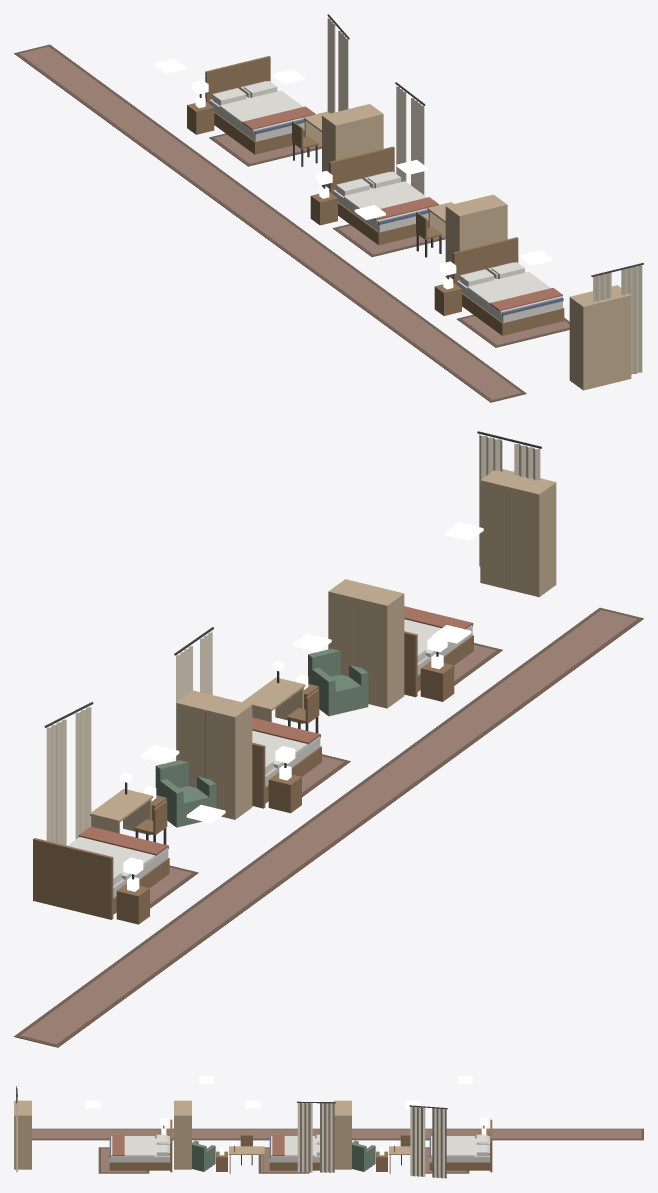
Rendered from fine-s2.glb.
The picture shows the model from 3 angles, top to bottom: view 1: azimuth 30°, elevation 25°; view 2: azimuth 150°, elevation 25°; view 3: azimuth 270°, elevation 25°; orthographic projection. The views are drawn at different scales.
Visible parts, largest first — view 1: soft-s2, dresser.005, bed-frame.005, bed-frame.003, bed-frame.004, dresser.004, dresser.003, nightstand.004, nightstand.003, nightstand.005, cafe-chair.003, cafe-chair.002; view 2: soft-s2, dresser.005, dresser.004, dresser.003, bed-frame.003, lounge-chair.003, lounge-chair.002, writing-desk.002, writing-desk.003, bed-frame.004, bed-frame.005, nightstand.005 (+2 smaller); view 3: soft-s2, dresser.004, dresser.003, dresser.005, bed-frame.005, bed-frame.003, lounge-chair.003, lounge-chair.002, bed-frame.004, writing-desk.003, side-table.002, side-table.003 (+2 smaller).
Boxes of the visible parts, x1,y1,x2,y2 form: soft-s2: (14, 14, 643, 402); dresser.005: (569, 285, 631, 390); bed-frame.005: (453, 237, 564, 335); bed-frame.003: (205, 56, 304, 154); bed-frame.004: (329, 146, 428, 245); dresser.004: (445, 194, 507, 278); dresser.003: (322, 104, 383, 188); nightstand.004: (310, 186, 337, 225); nightstand.003: (187, 96, 214, 134); nightstand.005: (434, 277, 461, 315); cafe-chair.003: (416, 212, 442, 257); cafe-chair.002: (292, 121, 318, 166); soft-s2: (14, 431, 643, 1047); dresser.005: (480, 469, 556, 597); dresser.004: (328, 579, 404, 708); dresser.003: (176, 690, 252, 819); bed-frame.003: (33, 838, 169, 919); lounge-chair.003: (308, 649, 368, 716); lounge-chair.002: (155, 760, 216, 827); writing-desk.002: (90, 772, 153, 835); writing-desk.003: (242, 661, 305, 723); bed-frame.004: (252, 734, 321, 808); bed-frame.005: (404, 623, 473, 697); nightstand.005: (420, 654, 454, 701); soft-s2: (16, 1086, 643, 1178); dresser.004: (174, 1100, 191, 1169); dresser.003: (334, 1100, 351, 1169); dresser.005: (14, 1100, 31, 1169); bed-frame.005: (109, 1119, 172, 1172); bed-frame.003: (429, 1119, 492, 1172); lounge-chair.003: (192, 1140, 215, 1171); lounge-chair.002: (352, 1140, 375, 1171); bed-frame.004: (269, 1136, 319, 1170); writing-desk.003: (229, 1141, 264, 1173); side-table.002: (376, 1148, 387, 1171); side-table.003: (216, 1148, 227, 1171).
Size of the model in its own units: 4.08 by 2.66 by 21.13.
